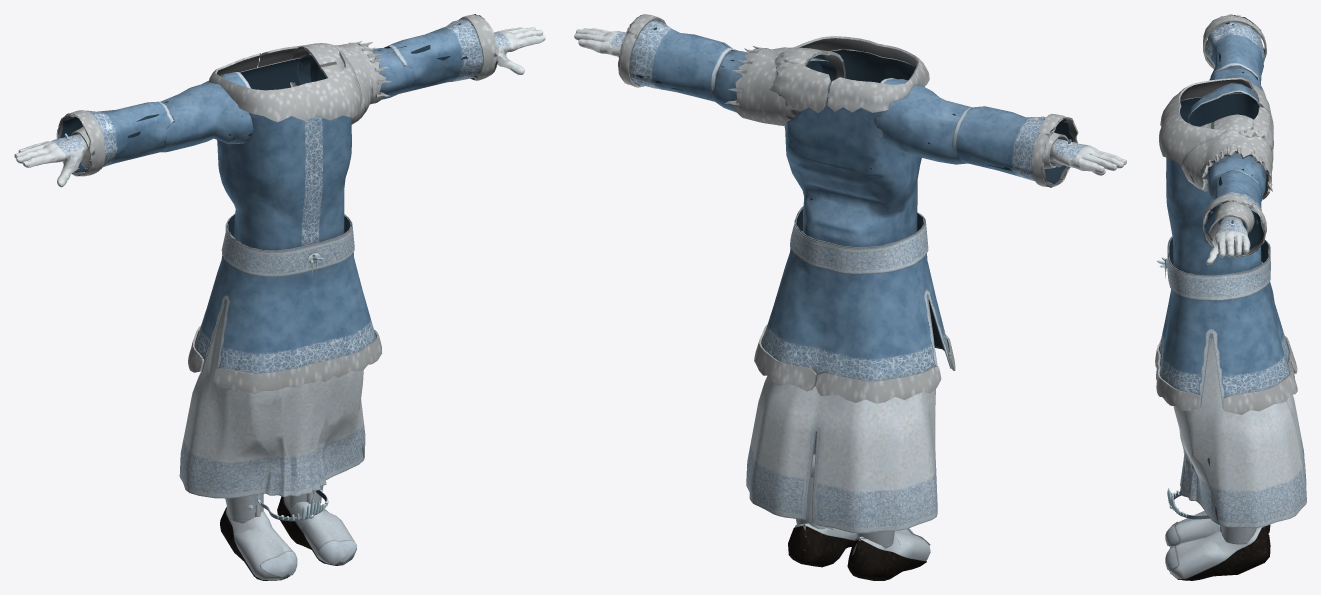
Rendered from mage_glacial.glb.
3 views of the same model, side by side, from view 1: azimuth 30°, elevation 25°; view 2: azimuth 150°, elevation 25°; view 3: azimuth 270°, elevation 25° (orthographic). The views are drawn at different scales.
Visible parts, largest first — view 1: robe, feet, gloves; view 2: robe, feet, gloves; view 3: robe, feet, gloves, circlet.
Boxes of the visible parts, x1,y1,x2,y2 form: robe: [56, 14, 498, 498]; feet: [220, 486, 356, 580]; gloves: [14, 27, 545, 187]; robe: [618, 14, 1078, 533]; feet: [788, 431, 930, 580]; gloves: [574, 28, 1126, 175]; robe: [1155, 15, 1306, 528]; feet: [1165, 511, 1270, 580]; gloves: [1206, 14, 1254, 264]; circlet: [1167, 488, 1210, 519].
Bounding box in the file's own units: 1.8 × 1.62 × 0.4825.
Materials: 4 (4 with a texture image).
